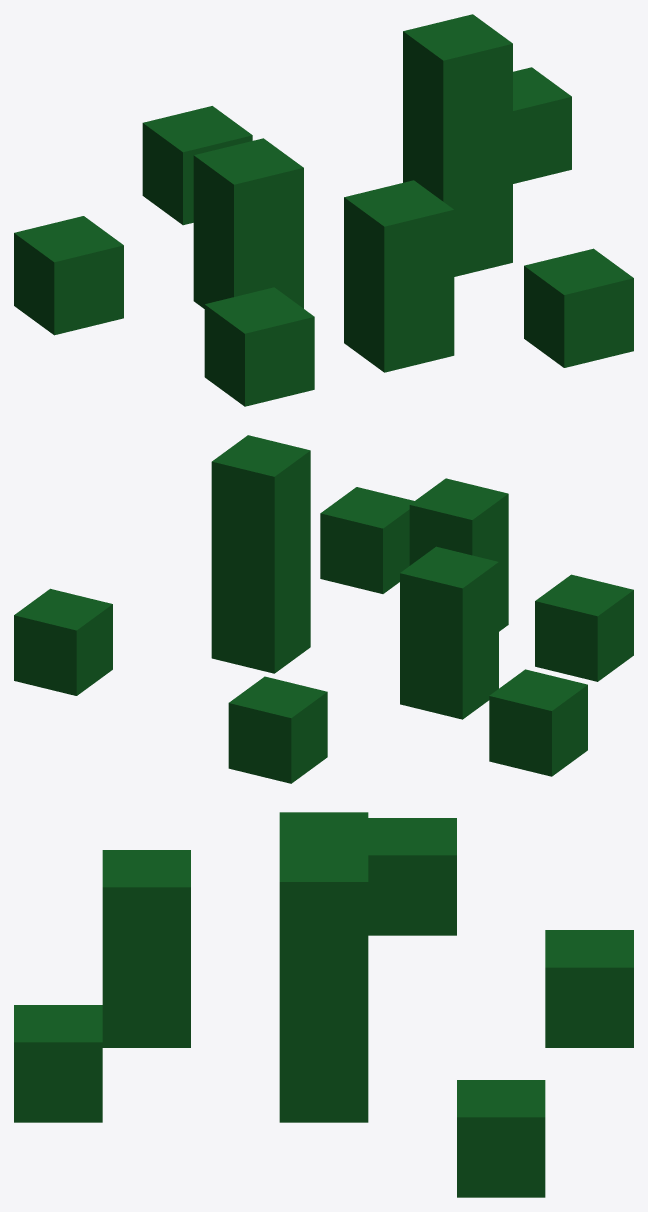
The model's file is grass_spikes_2.obj.
3 renders of one model, top to bottom at view 1: azimuth 30°, elevation 25°; view 2: azimuth 150°, elevation 25°; view 3: azimuth 270°, elevation 25°, orthographic. The views are drawn at different scales.
Size of the model in its own units: 0.8 by 0.3 by 0.7.
Materials: 1 (1 with a texture image).
